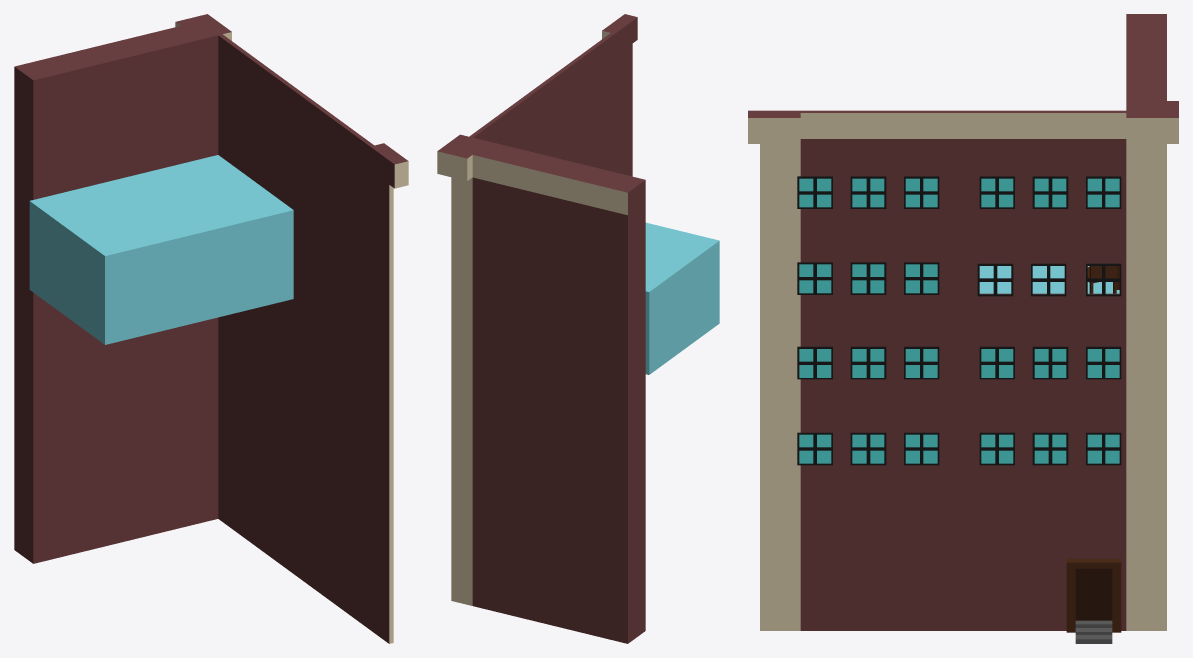
Rendered from buildingWithRoom.fbx.
3 renders of one model, left to right at view 1: azimuth 30°, elevation 25°; view 2: azimuth 150°, elevation 25°; view 3: azimuth 270°, elevation 25°, orthographic. The views are drawn at different scales.
Parts seen in each view (by area): view 1: Cube, Cube.016; view 2: Cube, Cube.016; view 3: Cube, Cube.001, Cube.009, Cube.008, Cube.010, Cube.011, Cube.013, Cube.014, Cube.004, Cube.005, Cube.016, Cube.003 (+1 smaller).
Part boxes in pixels (x1,y1,x2,y2): Cube: (14,14,408,643); Cube.016: (29,155,293,344); Cube: (437,14,645,643); Cube.016: (645,222,719,374); Cube: (748,14,1178,630); Cube.001: (797,432,939,465); Cube.009: (797,346,939,379); Cube.008: (979,432,1121,465); Cube.010: (979,346,1121,379); Cube.011: (797,262,939,294); Cube.013: (797,176,939,208); Cube.014: (979,176,1121,208); Cube.004: (1075,568,1112,620); Cube.005: (1066,558,1121,632); Cube.016: (979,266,1119,293); Cube.003: (1075,620,1112,643).
Size of the model in its own units: 1141 by 2418 by 1822.
